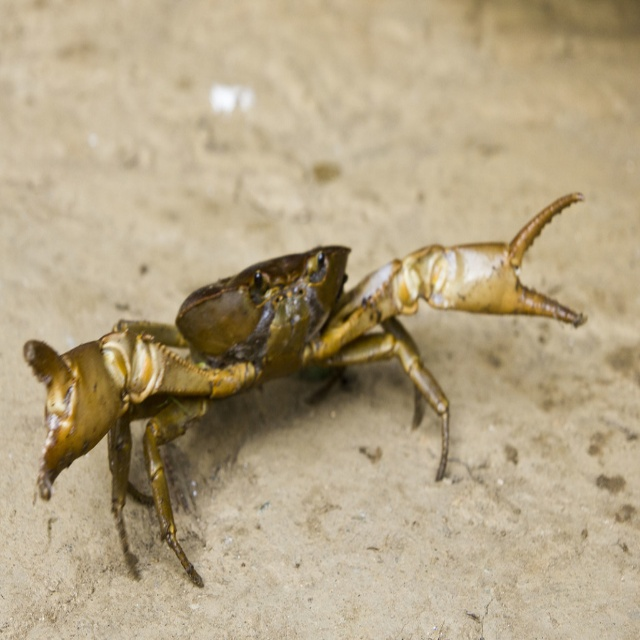Crab: (22, 193, 590, 587)
